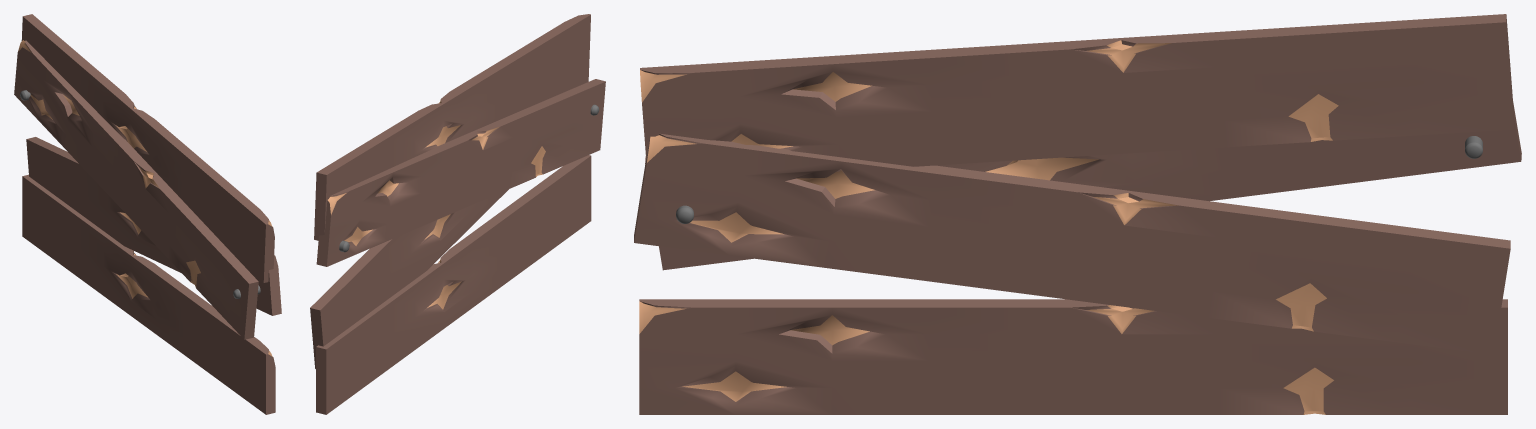
File: BoisBloque_01.fbx
3 views of the same model, side by side, from view 1: azimuth 30°, elevation 25°; view 2: azimuth 150°, elevation 25°; view 3: azimuth 270°, elevation 25° (orthographic). The views are drawn at different scales.
Parts seen in each view (by area): view 1: Cylinder.010; view 2: Cylinder.010; view 3: Cylinder.010.
Part boxes in pixels (bbox=[...]): Cylinder.010: bbox=[14, 14, 281, 414]; Cylinder.010: bbox=[310, 14, 605, 414]; Cylinder.010: bbox=[634, 14, 1521, 414].
Bounding box in the file's own units: 35.07 × 195 × 400.
